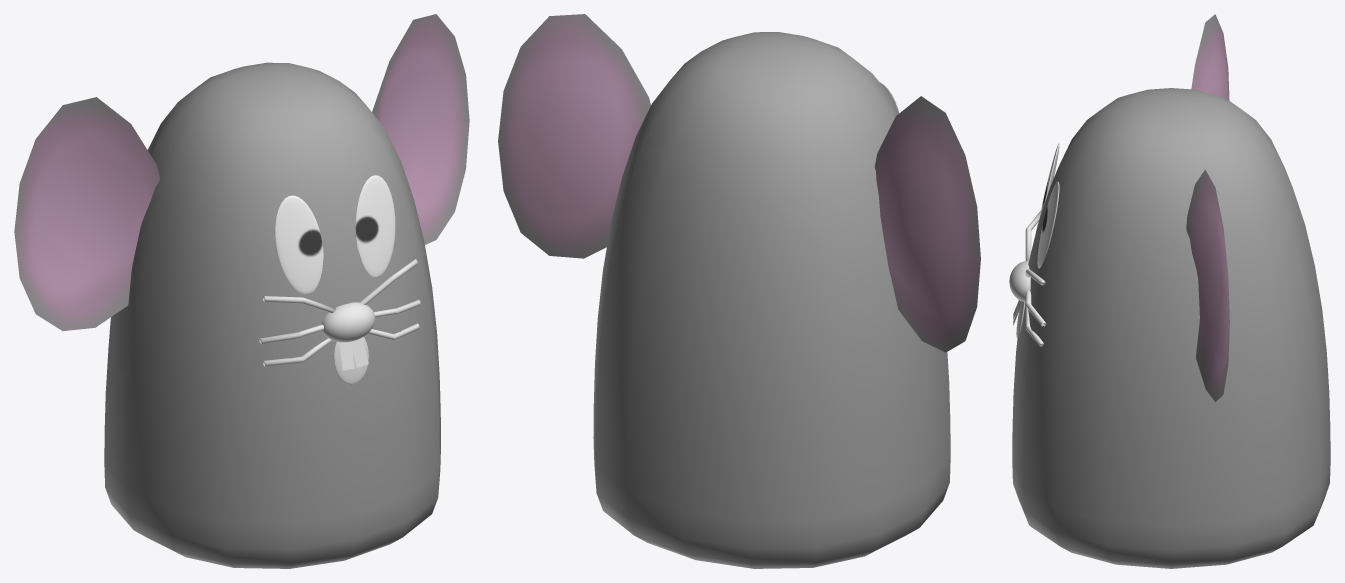
File: Rat.fbx
The picture shows the model from 3 angles, left to right: view 1: azimuth 30°, elevation 25°; view 2: azimuth 150°, elevation 25°; view 3: azimuth 270°, elevation 25°; orthographic projection. The views are drawn at different scales.
Parts seen in each view (by area): view 1: Cube, Plane, Sphere.004, Sphere, Cylinder, Cylinder.001, Cylinder.002, Plane.001, Sphere.003; view 2: Cube, Plane; view 3: Cube, Plane, Sphere.004, Sphere, Cylinder.
Boxes of the visible parts, left/top/right/bottom form: Cube: left=104, top=62, right=440, bottom=568; Plane: left=14, top=14, right=469, bottom=330; Sphere.004: left=274, top=175, right=395, bottom=294; Sphere: left=322, top=302, right=375, bottom=342; Cylinder: left=263, top=259, right=417, bottom=313; Cylinder.001: left=263, top=323, right=419, bottom=366; Cylinder.002: left=259, top=299, right=420, bottom=343; Plane.001: left=339, top=337, right=368, bottom=370; Sphere.003: left=333, top=336, right=368, bottom=384; Cube: left=593, top=32, right=950, bottom=568; Plane: left=498, top=14, right=980, bottom=352; Cube: left=1012, top=88, right=1330, bottom=568; Plane: left=1186, top=14, right=1229, bottom=401; Sphere.004: left=1037, top=143, right=1059, bottom=268; Sphere: left=1009, top=261, right=1030, bottom=302; Cylinder: left=1025, top=210, right=1045, bottom=285.
Size of the model in its own units: 408 by 385 by 262.
Materials: 3 (3 with a texture image).
